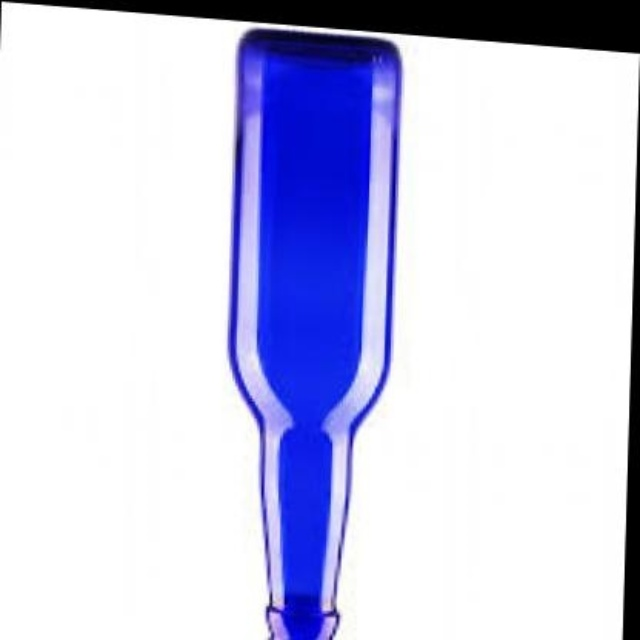trash: (229, 31, 400, 638)
